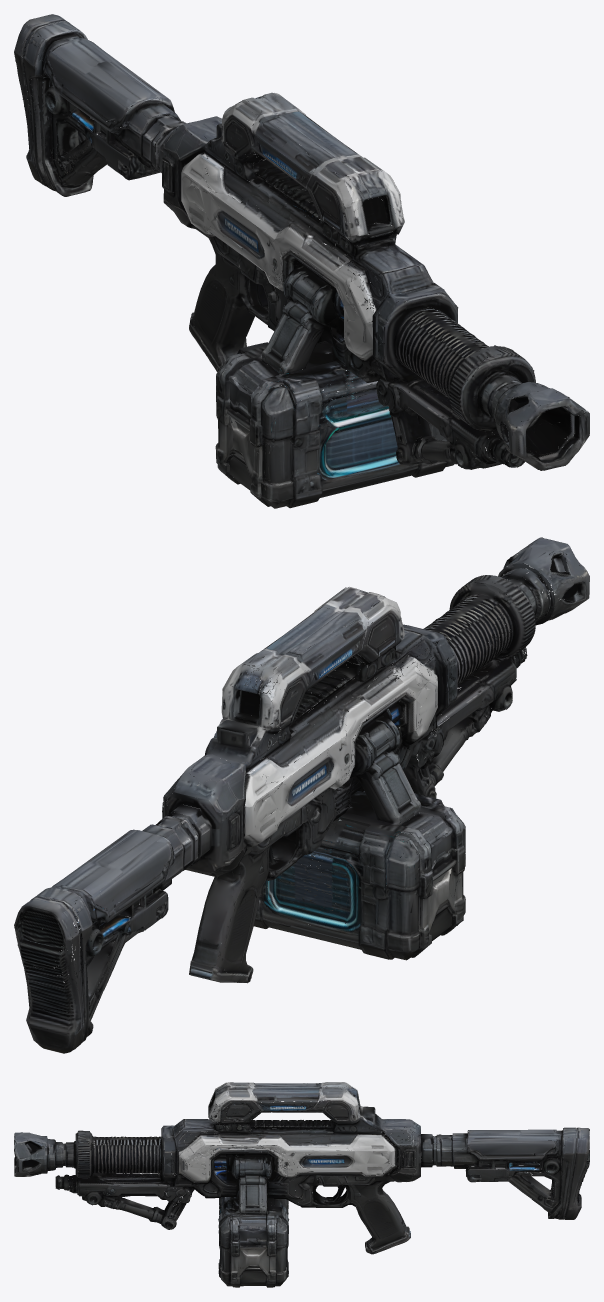
The model's file is em68l_viewmodel.glb.
The picture shows the model from 3 angles, top to bottom: view 1: azimuth 30°, elevation 25°; view 2: azimuth 150°, elevation 25°; view 3: azimuth 270°, elevation 25°; orthographic projection. The views are drawn at different scales.
Parts seen in each view (by area): view 1: node_0; view 2: node_0; view 3: node_0.
Part boxes in pixels (bbox=[...]): node_0: bbox=[14, 14, 589, 508]; node_0: bbox=[14, 537, 589, 1053]; node_0: bbox=[14, 1082, 589, 1287].
Bounding box in the file's own units: 0.2609 × 0.3723 × 1.1.
Materials: 1 (1 with a texture image).
